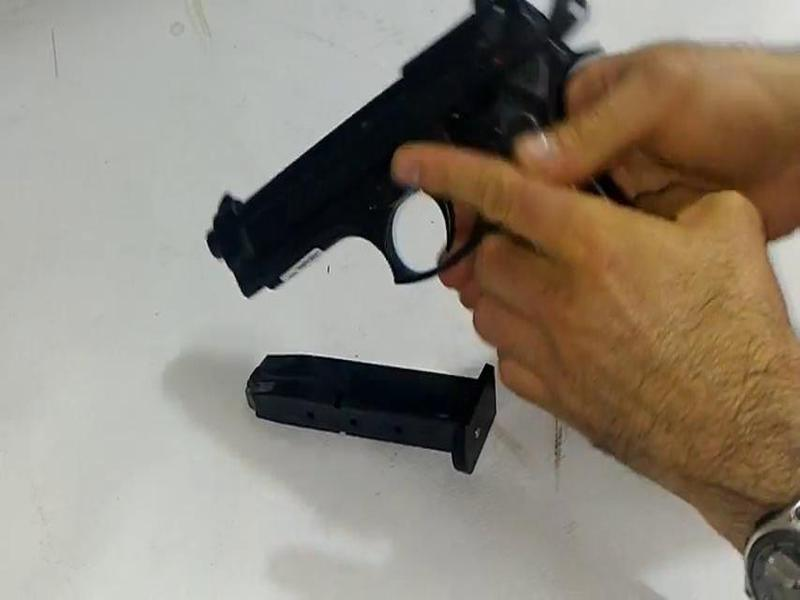Pistola: (192, 1, 666, 326)
